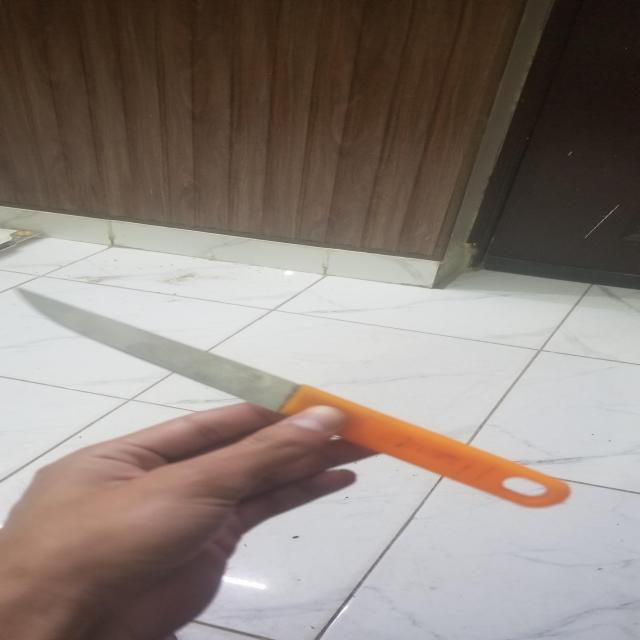Knife: (14, 286, 574, 512)
Person: (0, 384, 402, 640)
